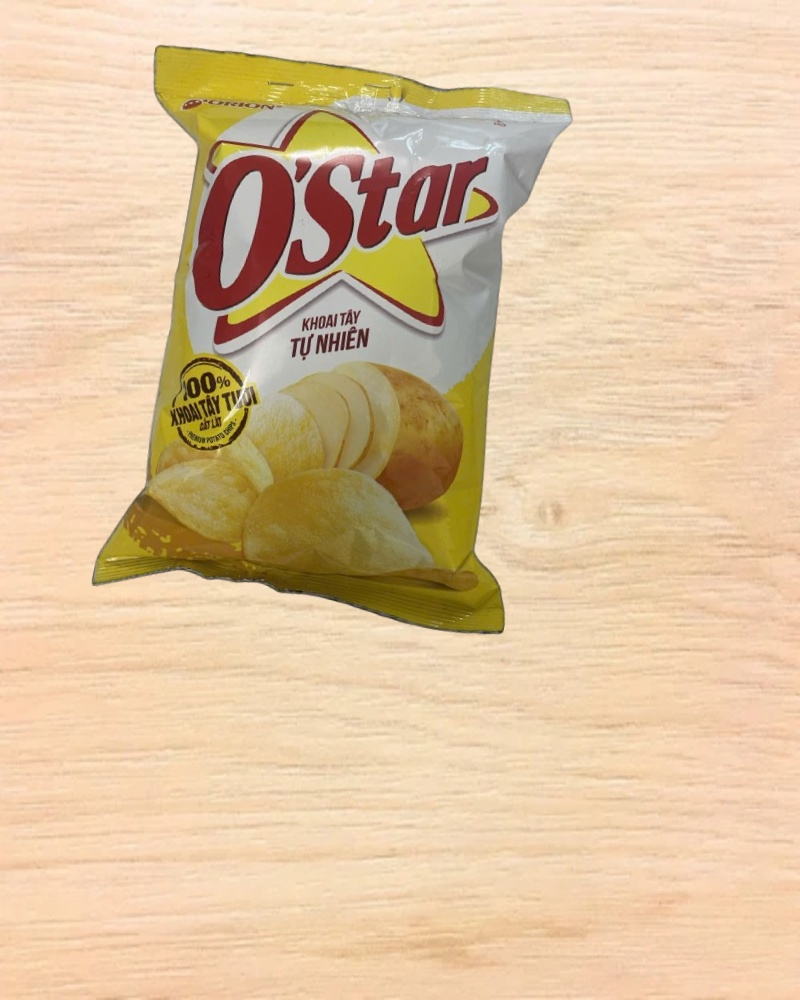O'star: (64, 28, 596, 657)
